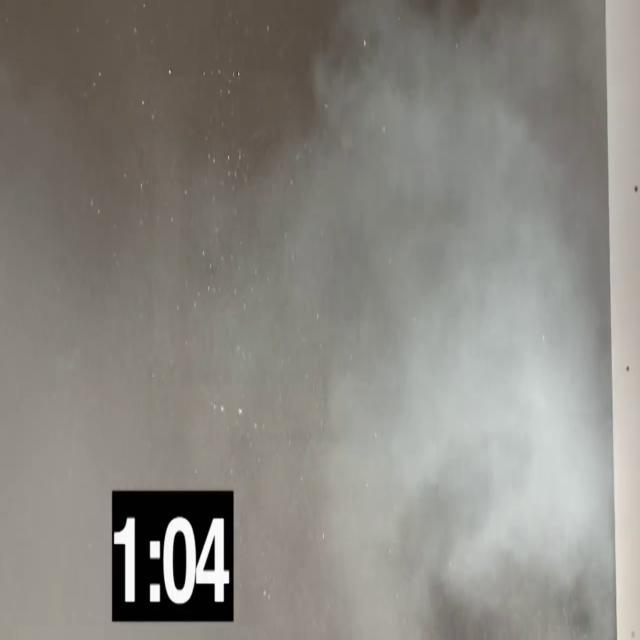Smoke: (242, 54, 640, 431)
